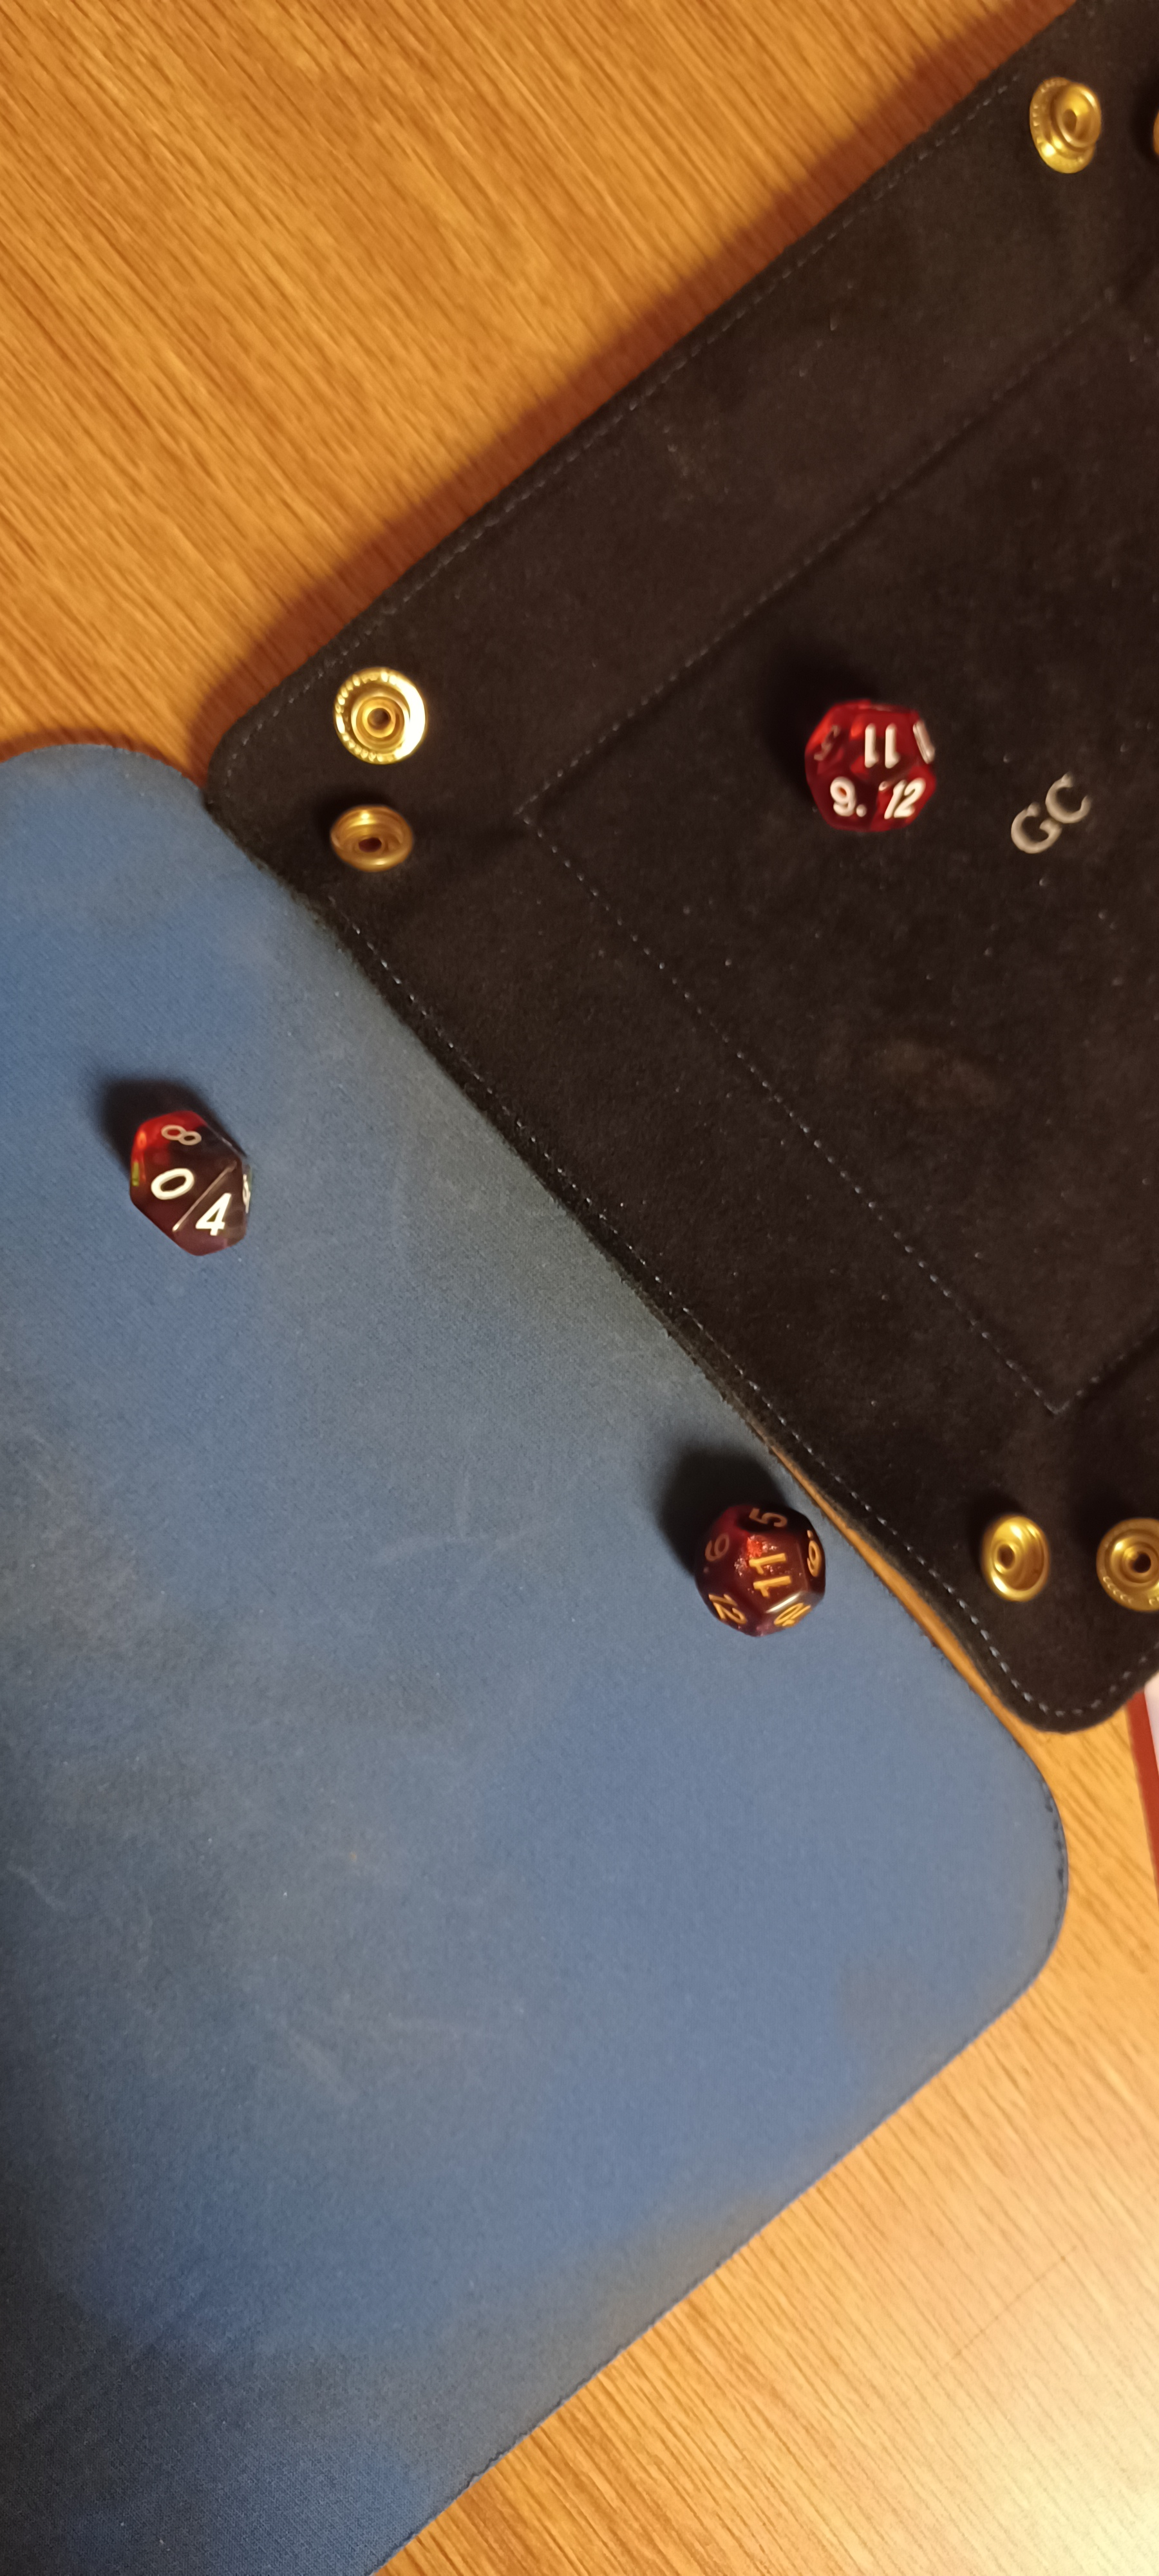eleven: (678, 1472, 849, 1679), (776, 683, 972, 859)
zero: (95, 1083, 281, 1276)
